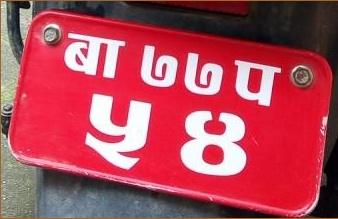4: (181, 110, 247, 176)
5: (85, 93, 152, 170)
7: (184, 52, 223, 94), (140, 44, 177, 87)
ba: (62, 31, 126, 79)
pa: (232, 58, 280, 109)
